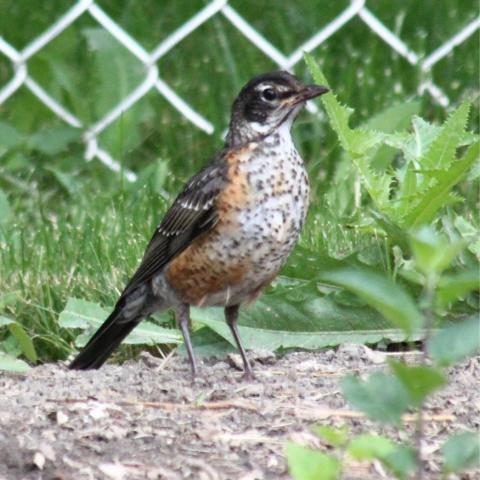bird: (66, 68, 332, 382)
